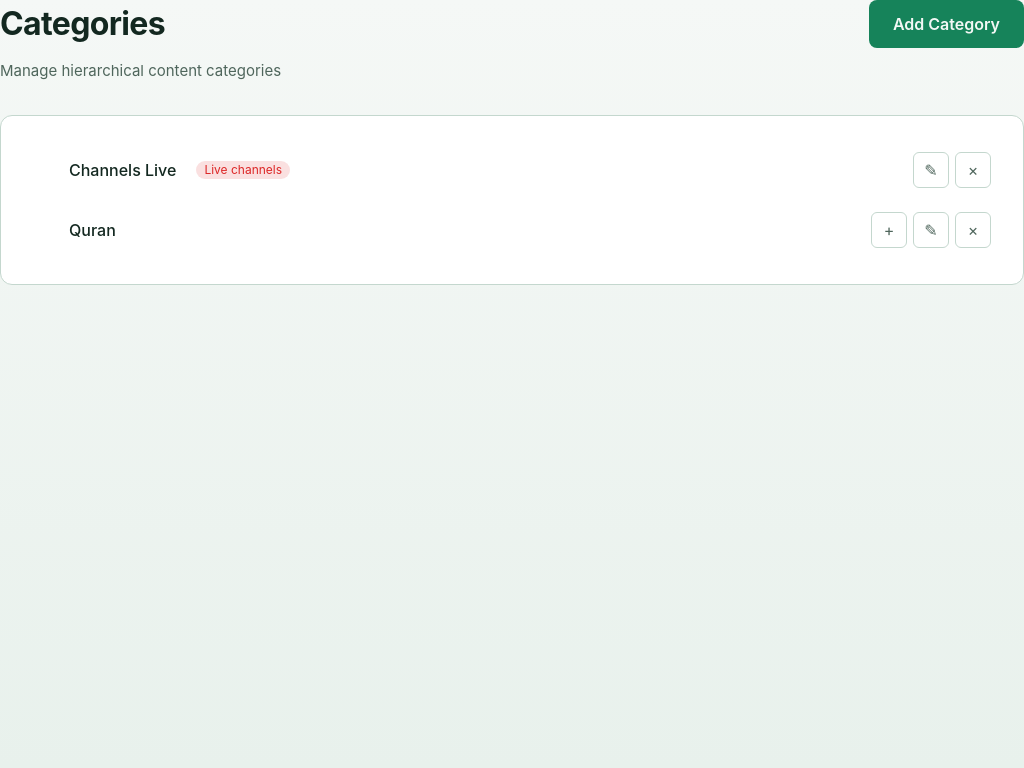
Test case: CategoriesView and the category type (spec §8, R18) › shows the localized fallback, not axios English, for an uncoded failure
Click the button titled "Edit" in the row of "Quran" at (931, 230), box [913,212,949,248]
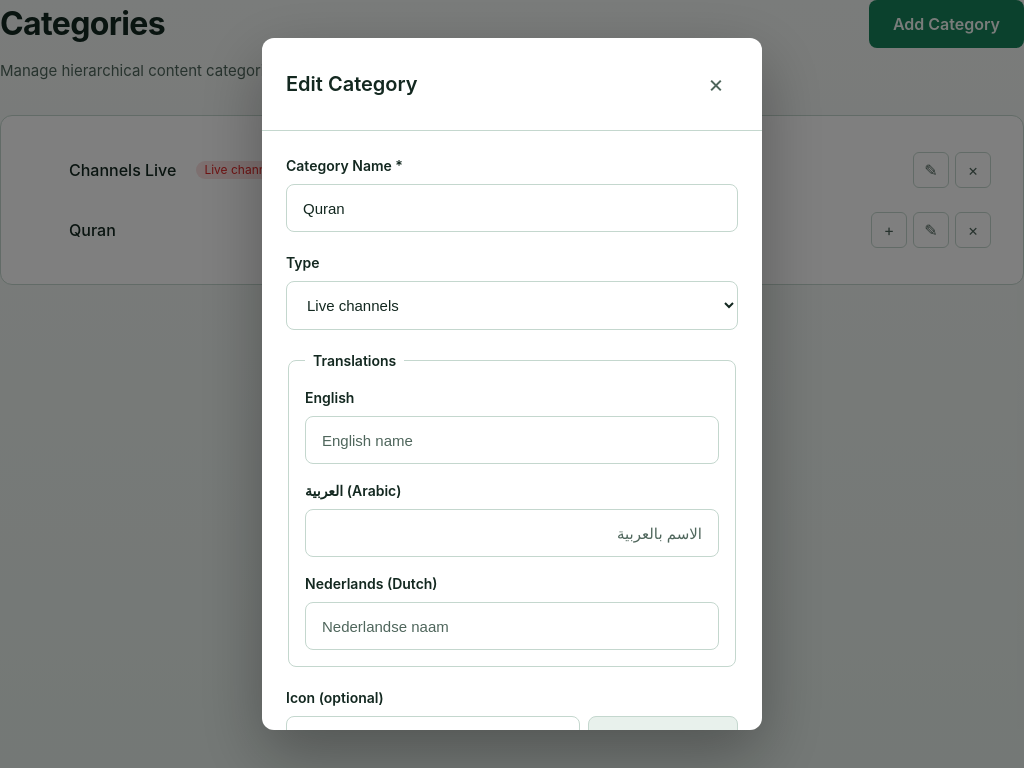
Select "Live channels" in the dropdown labelled "Type" at (512, 306), box [286,281,738,330]
(page scrolled)
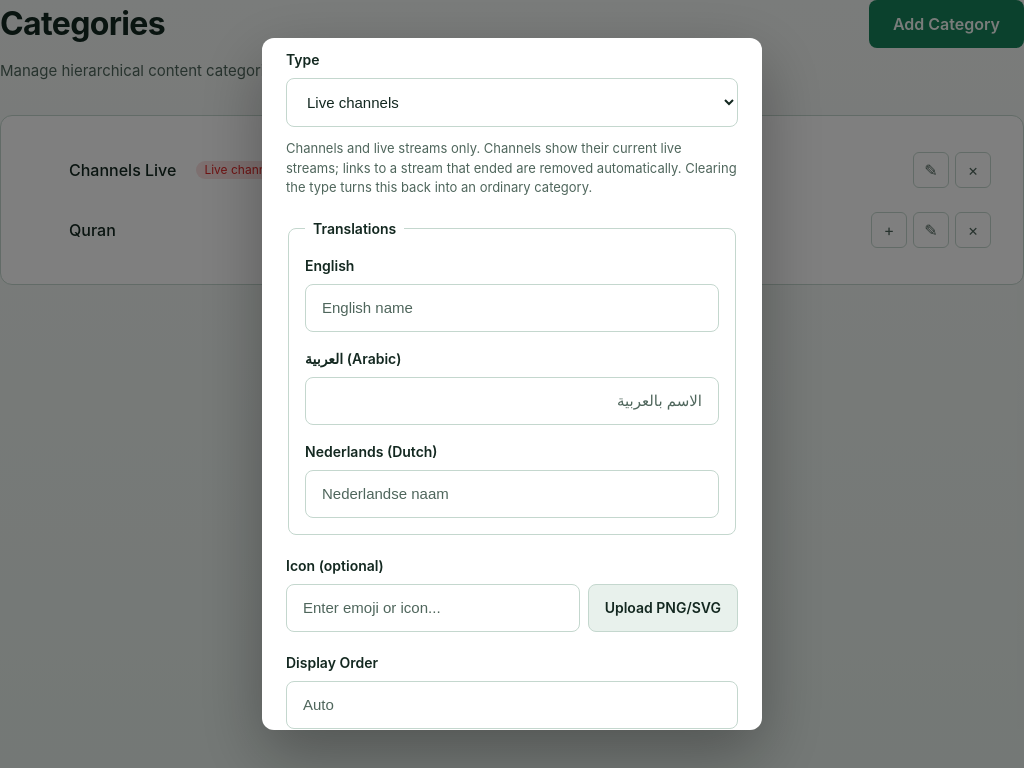
Submit the form labelled "Type"
(page scrolled)
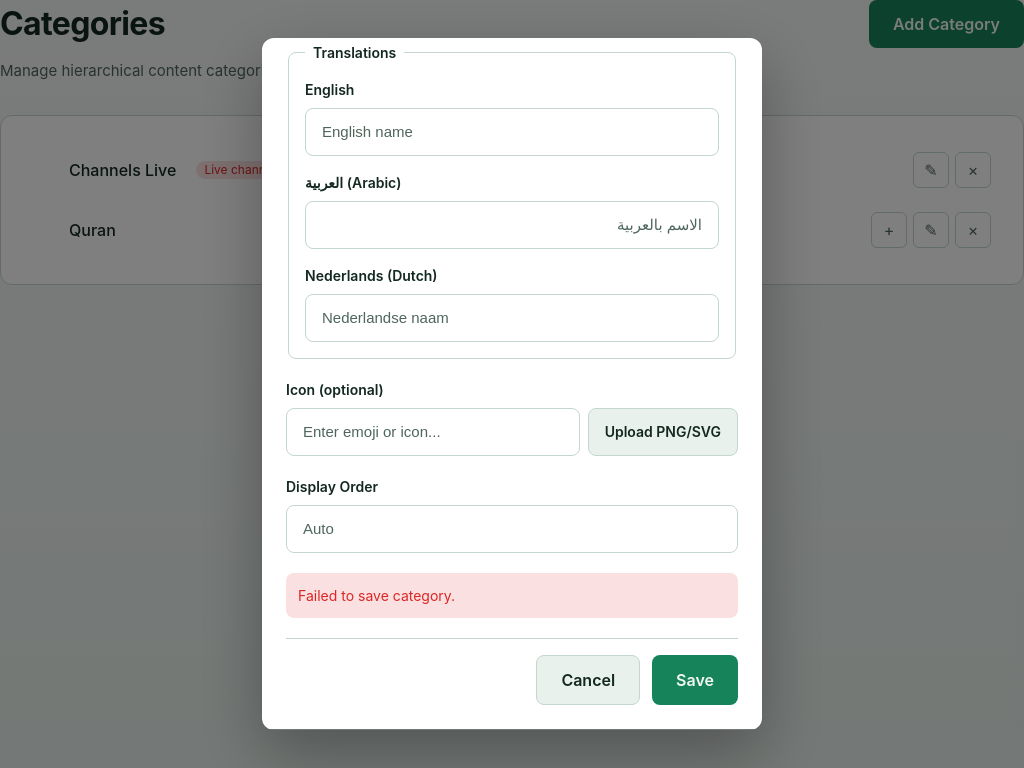
Check: the text with class "form-error" reads "Failed to save category.", box [298,587,455,604]
